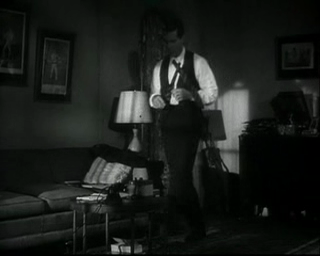face: (164, 31, 180, 56)
ls: (1, 1, 320, 256)
person: (149, 21, 218, 243)
